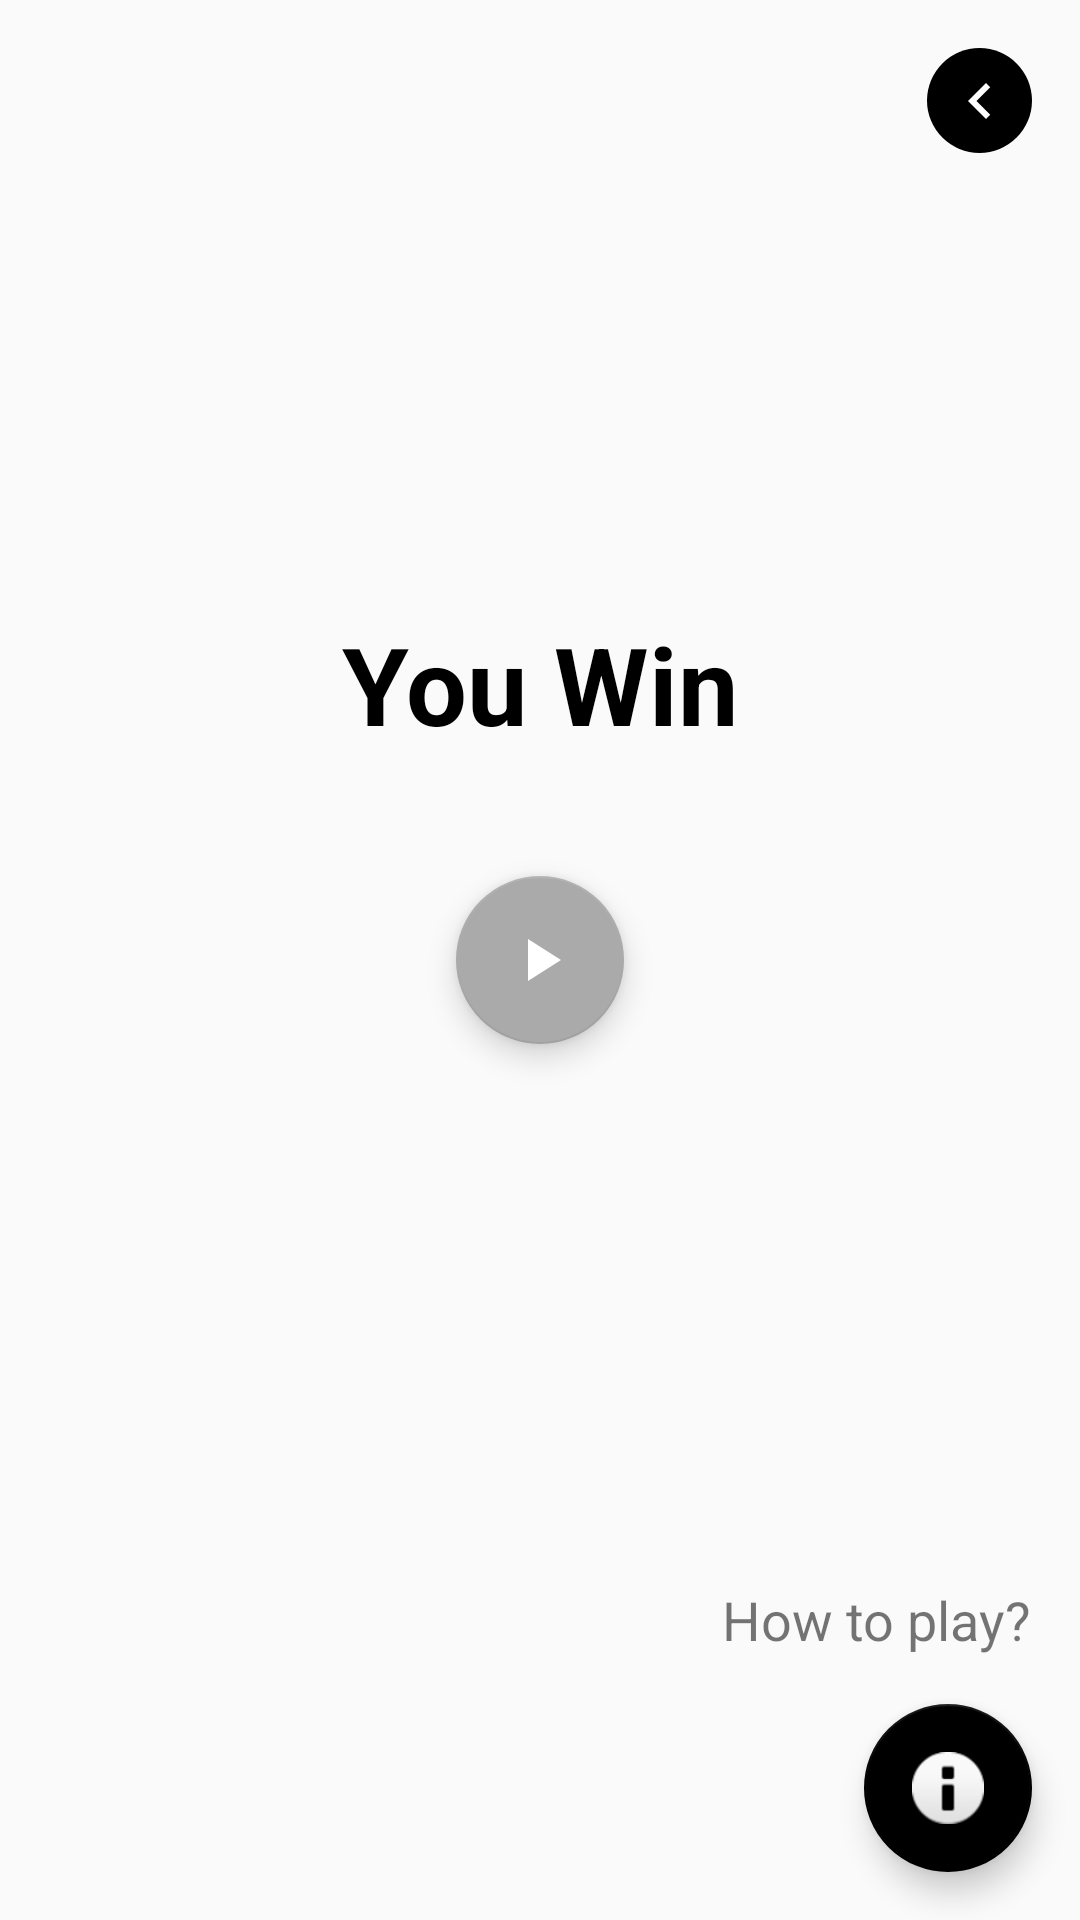

Named icons in this screenshot (1080px x 1920px) and their centers, (x=x, y=y):
play: (x=540, y=960)
